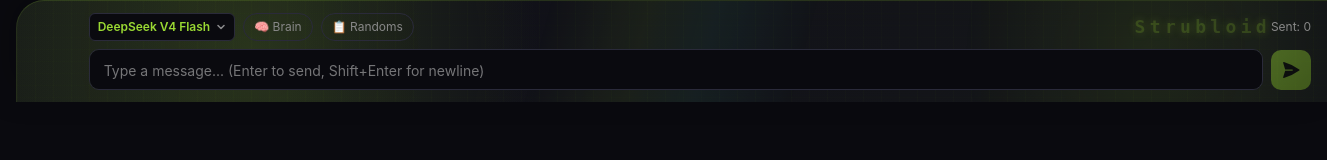
Test case: ChatComposer › shows request counter incremented after send
The image size is (1327, 160).
Type "first" into the text box with placeholder "Type a message... (Enter to send, Shift+Enter for newline)" at (676, 70), box x1=89 y1=49 x2=1263 y2=90
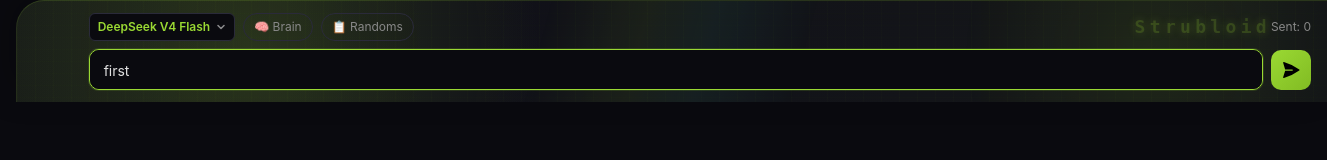
Press Enter
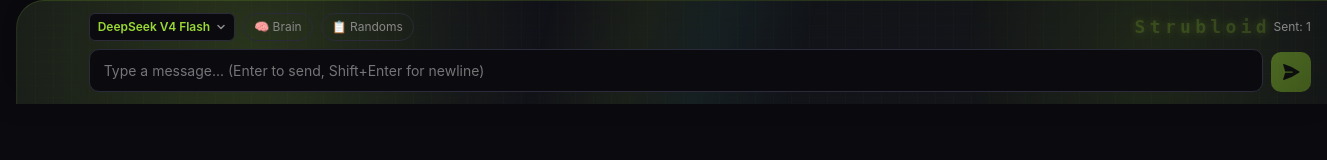
Check: the text "Sent: 1" is shown, box x1=1274 y1=18 x2=1311 y2=36
